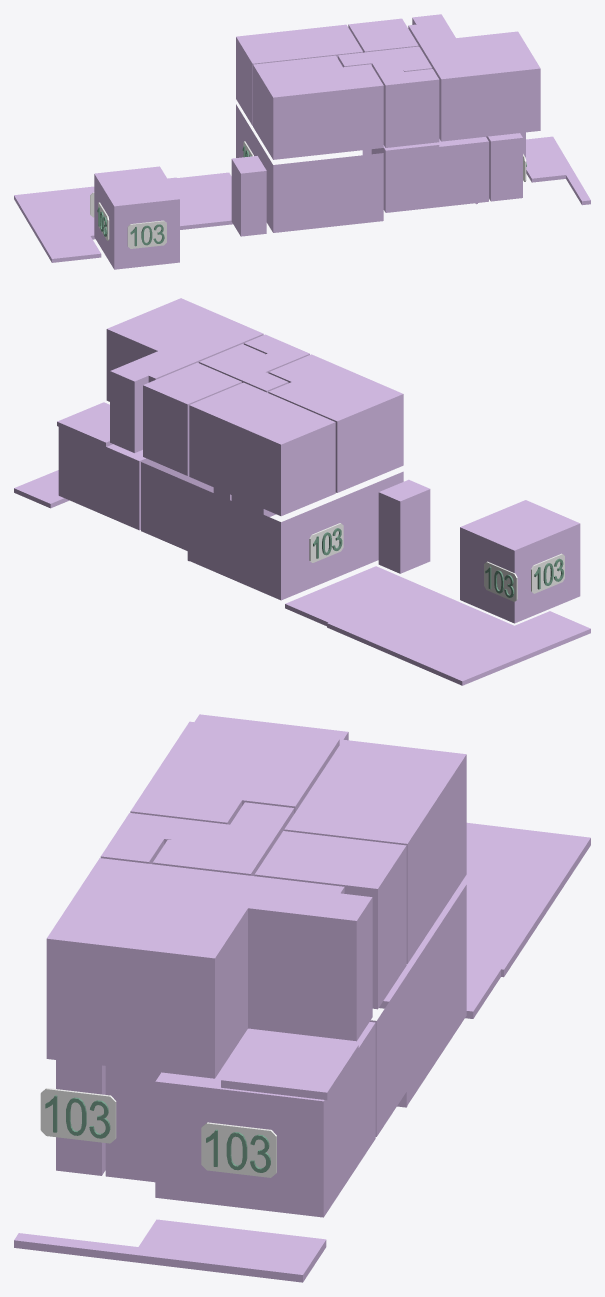
The picture shows the model from 3 angles, top to bottom: view 1: azimuth 30°, elevation 25°; view 2: azimuth 150°, elevation 25°; view 3: azimuth 270°, elevation 25°; orthographic projection. The views are drawn at different scales.
Visible parts, largest first — view 1: g_6, g_10, g_1, g_14, g_2, g_5, g_7, g_11, g_4, g_3, g_12, g_9 (+2 smaller); view 2: g_1, g_14, g_7, g_10, g_5, g_6, g_0, g_9, g_4, g_8, g_13, g_12 (+4 smaller); view 3: g_10, g_0, g_7, g_14, g_6, g_1, g_9, g_12, g_13, g_8, g_2, g_3 (+4 smaller).
Part boxes in pixels (box(x1,y1,x2,y2)): g_6: box(253, 55, 383, 159); g_10: box(408, 14, 540, 141); g_1: box(236, 104, 383, 232); g_14: box(14, 172, 232, 262); g_2: box(371, 137, 488, 212); g_5: box(94, 166, 179, 269); g_7: box(236, 24, 362, 125); g_11: box(378, 69, 439, 147); g_4: box(231, 156, 266, 236); g_3: box(486, 133, 522, 201); g_12: box(526, 136, 590, 205); g_9: box(348, 18, 418, 52); g_1: box(141, 462, 403, 600); g_14: box(285, 566, 590, 685); g_7: box(189, 382, 335, 516); g_10: box(106, 298, 263, 452); g_5: box(460, 500, 580, 623); g_6: box(268, 354, 403, 492); g_0: box(58, 427, 213, 530); g_9: box(143, 362, 241, 475); g_4: box(378, 479, 430, 573); g_8: box(199, 344, 288, 392); g_13: box(57, 402, 112, 446); g_12: box(14, 470, 69, 508); g_10: box(46, 858, 372, 1078); g_0: box(155, 1022, 375, 1217); g_7: box(284, 739, 466, 963); g_14: box(379, 822, 590, 1018); g_6: box(130, 721, 339, 824); g_1: box(370, 885, 466, 1136); g_9: box(254, 831, 406, 1009); g_12: box(14, 1219, 326, 1282); g_13: box(221, 1032, 358, 1100); g_8: box(152, 802, 294, 876); g_2: box(105, 1066, 161, 1182); g_3: box(56, 1060, 105, 1175).
Size of the model in its own units: 20.08 by 5.35 by 10.37.
